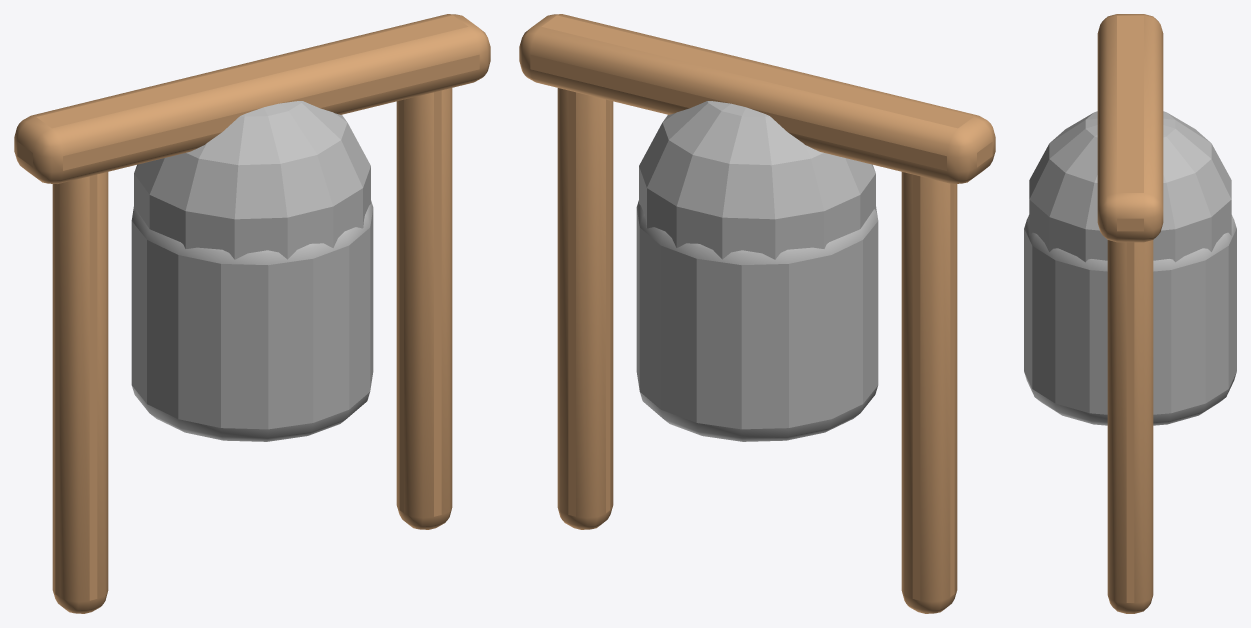
Rendered from bell.glb.
The picture shows the model from 3 angles, left to right: view 1: azimuth 30°, elevation 25°; view 2: azimuth 150°, elevation 25°; view 3: azimuth 270°, elevation 25°; orthographic projection. The views are drawn at different scales.
Parts seen in each view (by area): view 1: beam; view 2: beam; view 3: beam.
Part boxes in pixels (x1,y1,x2,y2): beam: (14, 14, 490, 613); beam: (519, 14, 995, 613); beam: (1024, 14, 1236, 613).
Size of the model in its own units: 0.875 by 0.9125 by 0.4062.
